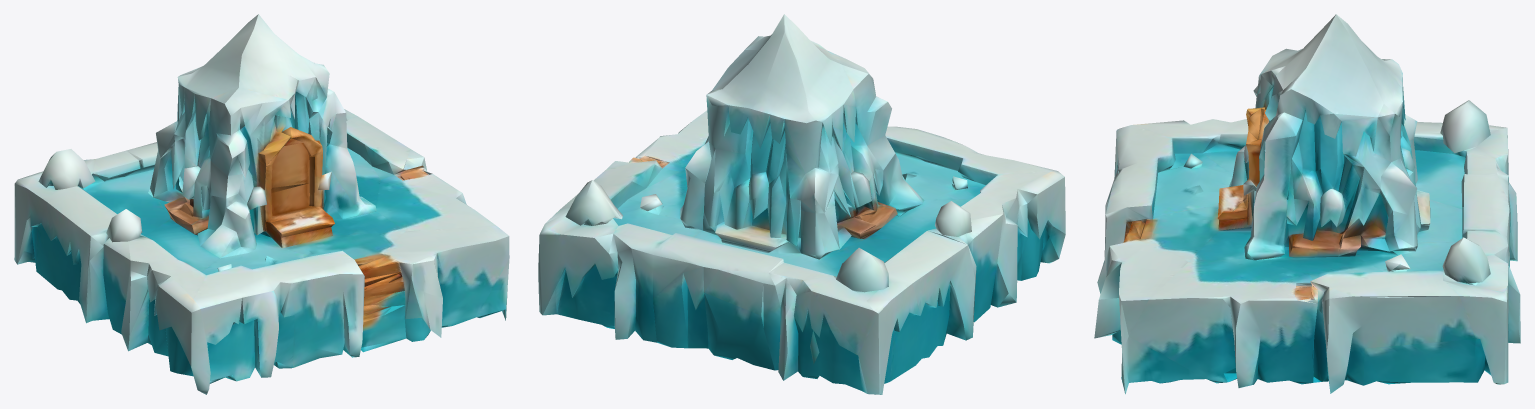
Rendered from m2IcePlatform.glb.
The picture shows the model from 3 angles, left to right: view 1: azimuth 30°, elevation 25°; view 2: azimuth 150°, elevation 25°; view 3: azimuth 270°, elevation 25°; orthographic projection. The views are drawn at different scales.
Parts seen in each view (by area): view 1: model; view 2: model; view 3: model.
Boxes of the visible parts, x1=… form: model: x1=14, y1=14, x2=509, y2=394; model: x1=538, y1=14, x2=1065, y2=394; model: x1=1094, y1=14, x2=1520, y2=394.
Bounding box in the file's own units: 1.9 × 1.44 × 1.86.
Materials: 1 (1 with a texture image).
